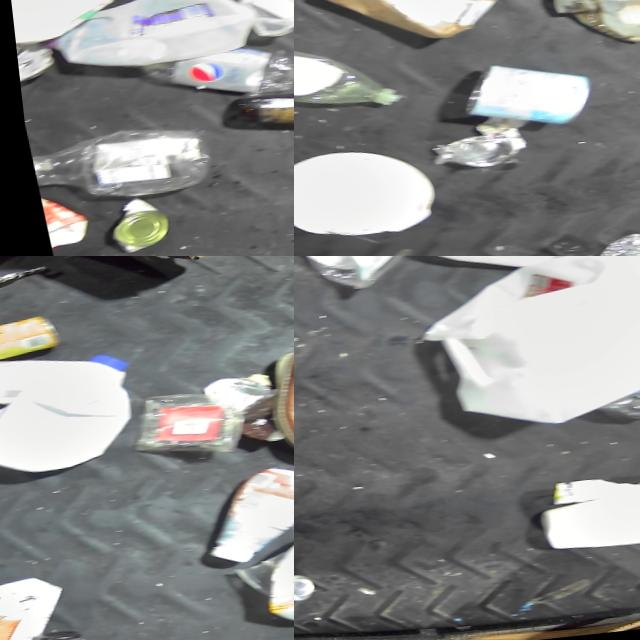can: (429, 59, 596, 136), (87, 191, 181, 256), (0, 312, 57, 363), (294, 569, 311, 610)
milk_jug: (403, 259, 640, 429), (0, 347, 145, 479), (38, 0, 254, 74), (0, 0, 156, 50), (239, 513, 294, 632)
plastic_bottle: (18, 124, 209, 200), (106, 40, 294, 111), (294, 256, 467, 287), (531, 229, 640, 256)
